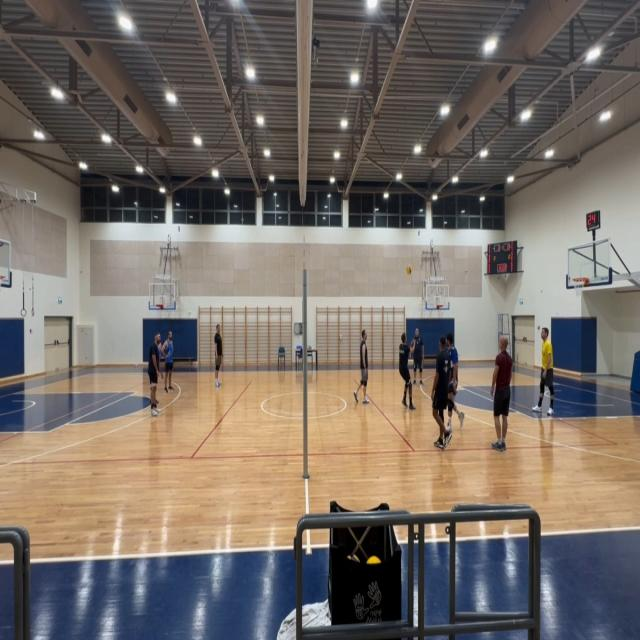volleyball: (406, 264, 412, 276)
